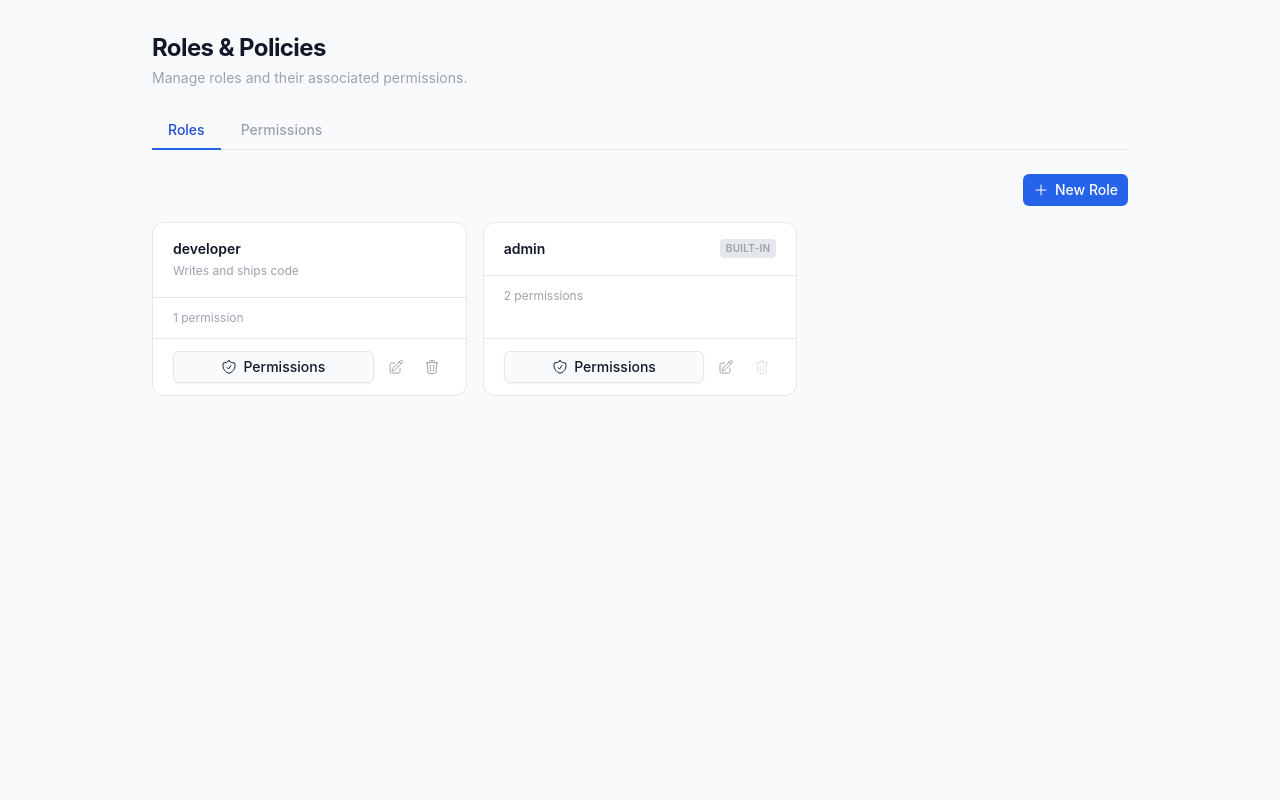
Test case: RolesPoliciesPage — create role › closes the create modal via the dialog close button without submitting
Click the button "New Role" at [1076, 190], box [1023, 174, 1128, 206]
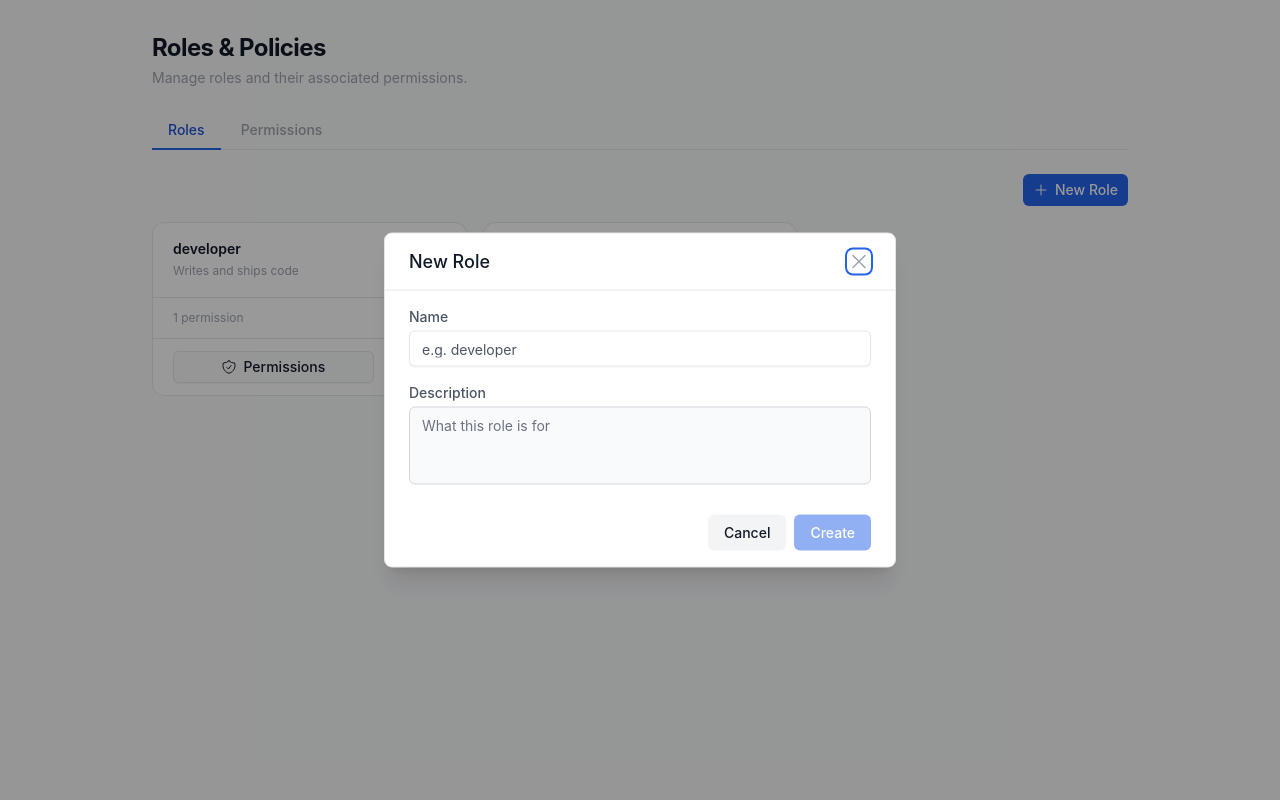
Type "draft-role" into the field labelled "Name" at [640, 348], box [409, 330, 871, 366]
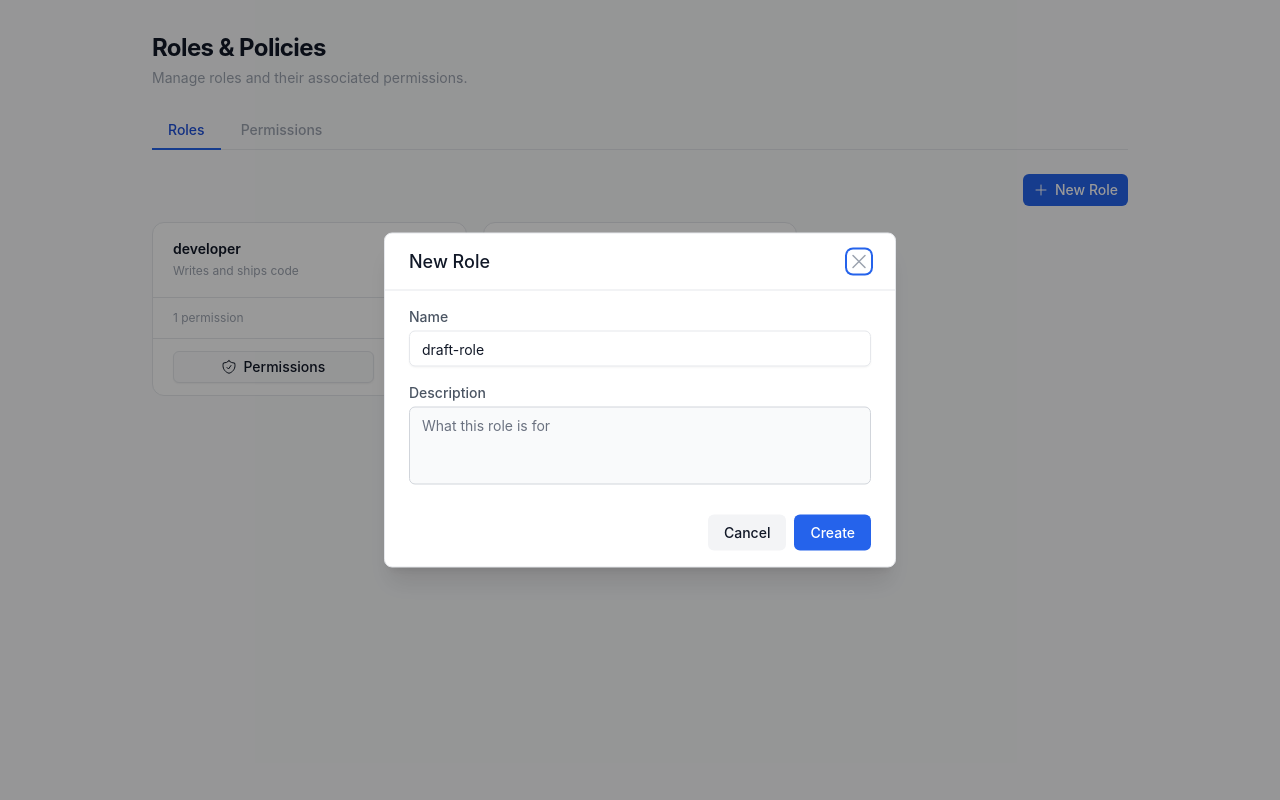
Click the button named "Close" at [859, 262], box [847, 250, 871, 274]
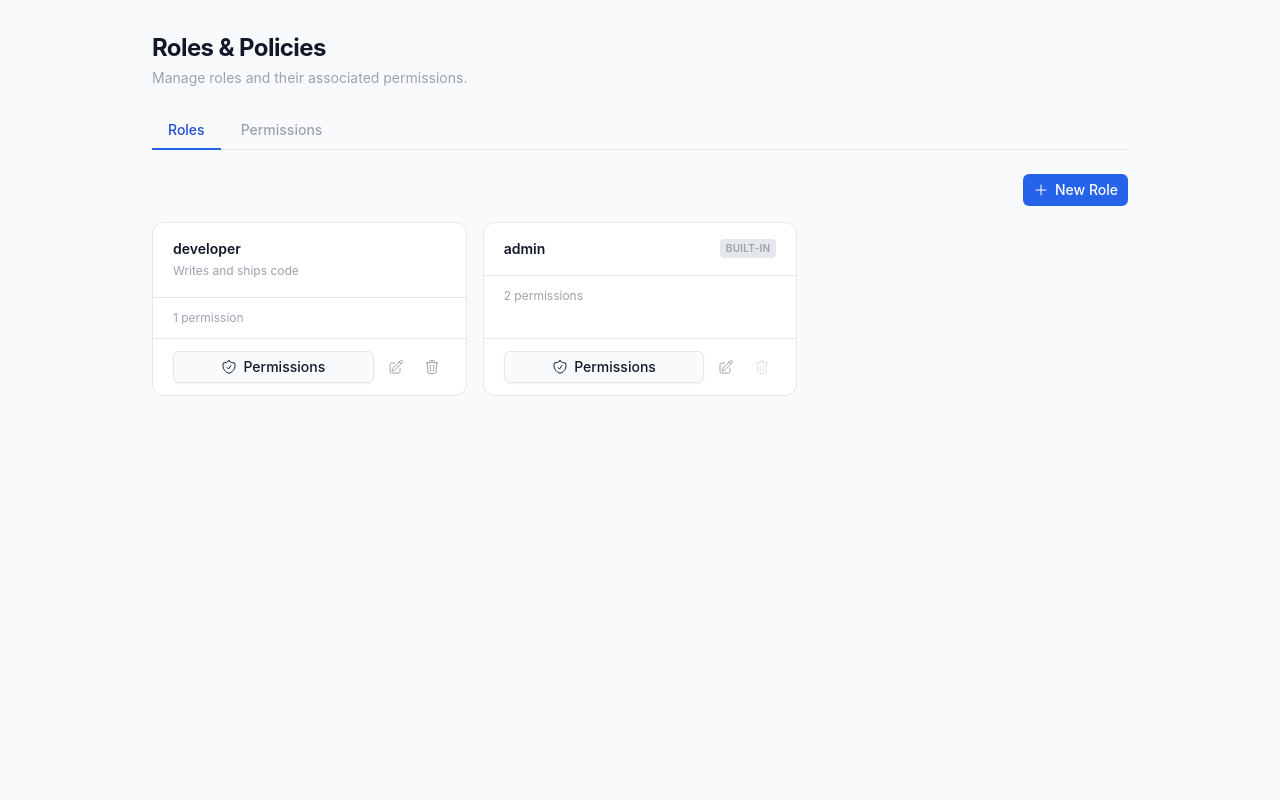
Now the dialog is gone
